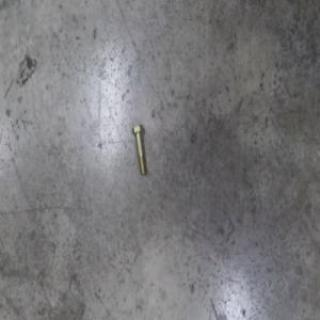Bolttrack_idkeyframe: (130, 121, 146, 174)
